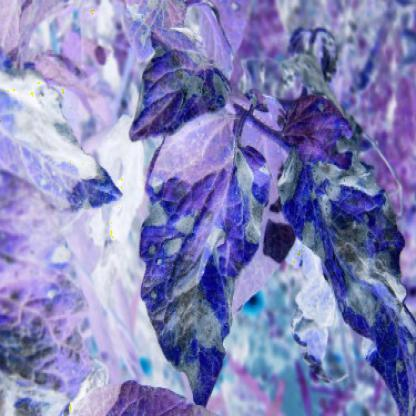Tomato Early blight leaf: (268, 98, 414, 408), (148, 113, 268, 406), (5, 60, 130, 216), (131, 25, 234, 133)
